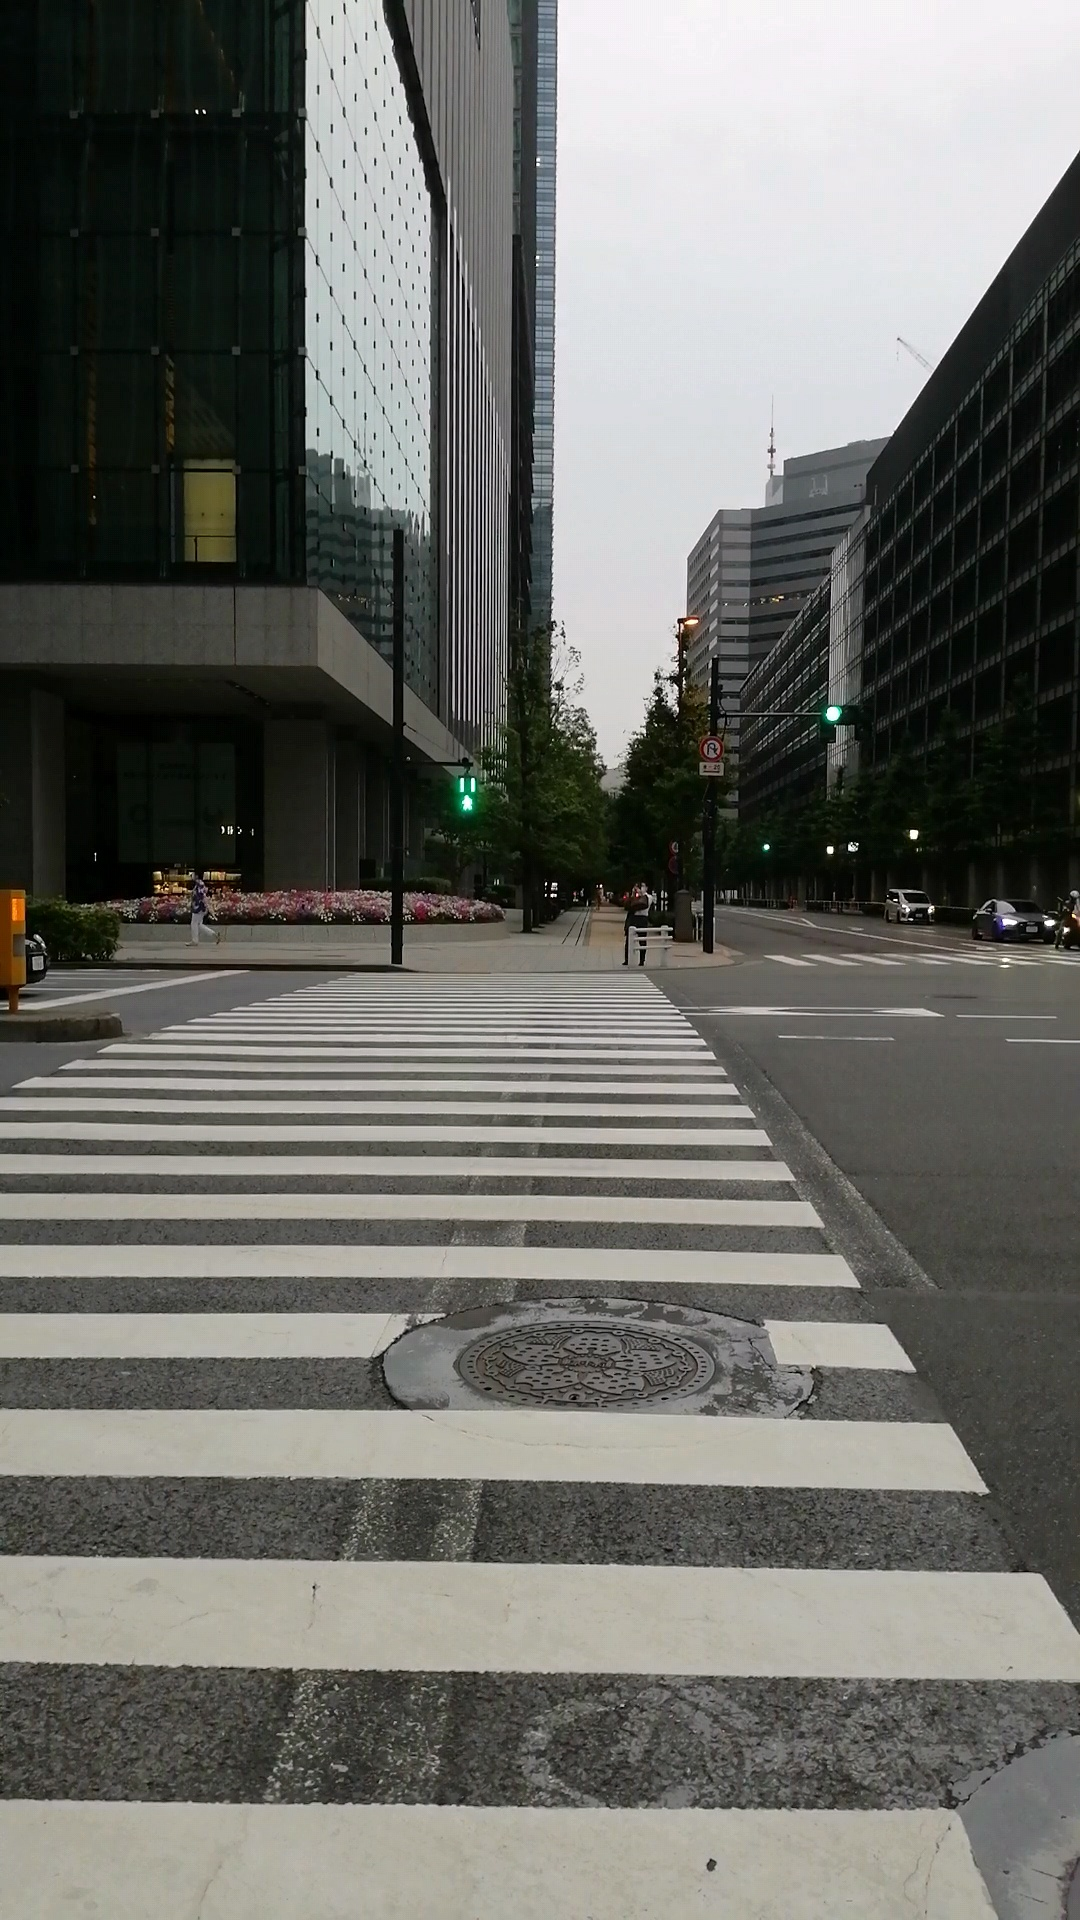green: (455, 774, 477, 814)
